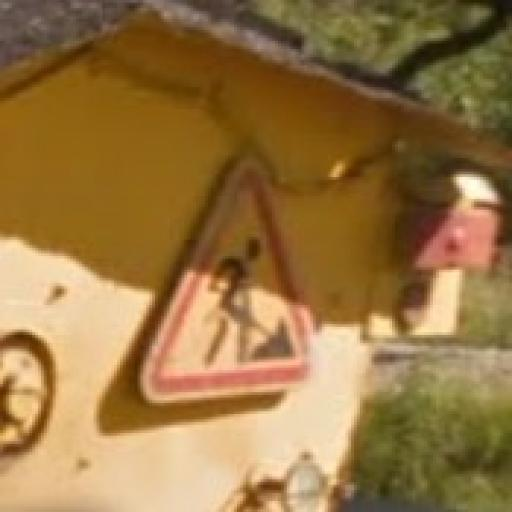traffic_sign: (138, 151, 317, 407)
